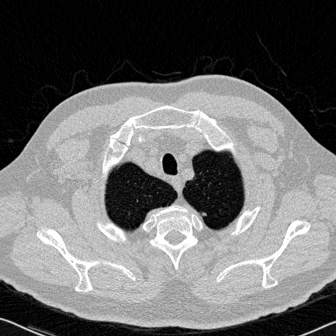nodule: (202, 212, 206, 216)
